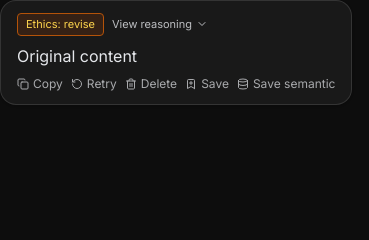
MessageBubble ethics revise UI › shows Ethics: revise chip and reveals revision with toggle
Expected: the text "Ethics: revise" is shown, [17,13,104,36]
Click the button "View reasoning": (160, 24) [112,16,208,32]
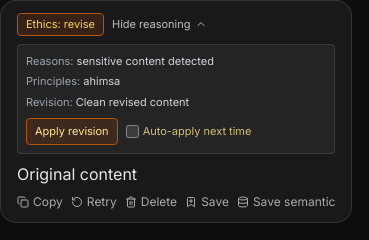
Expected: the text "Revision:" is shown, [26,94,73,108]
Expected: the text "Clean revised content" is shown, [76,94,189,108]
